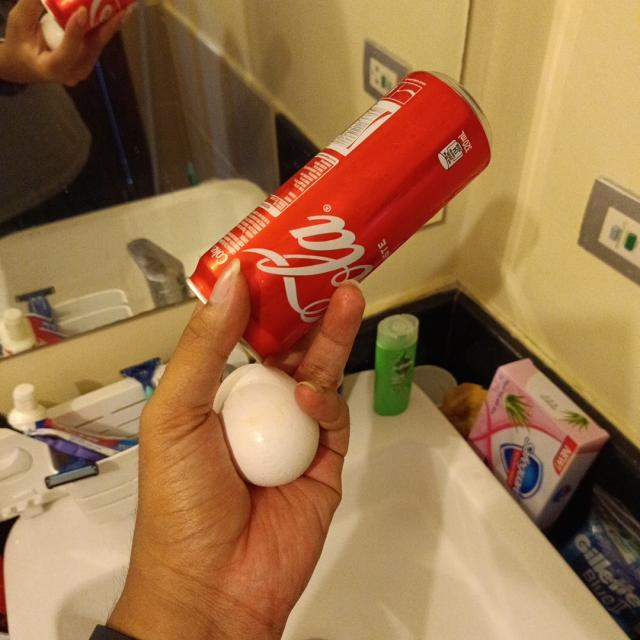coke: (182, 70, 494, 363)
egg: (211, 362, 319, 492)
